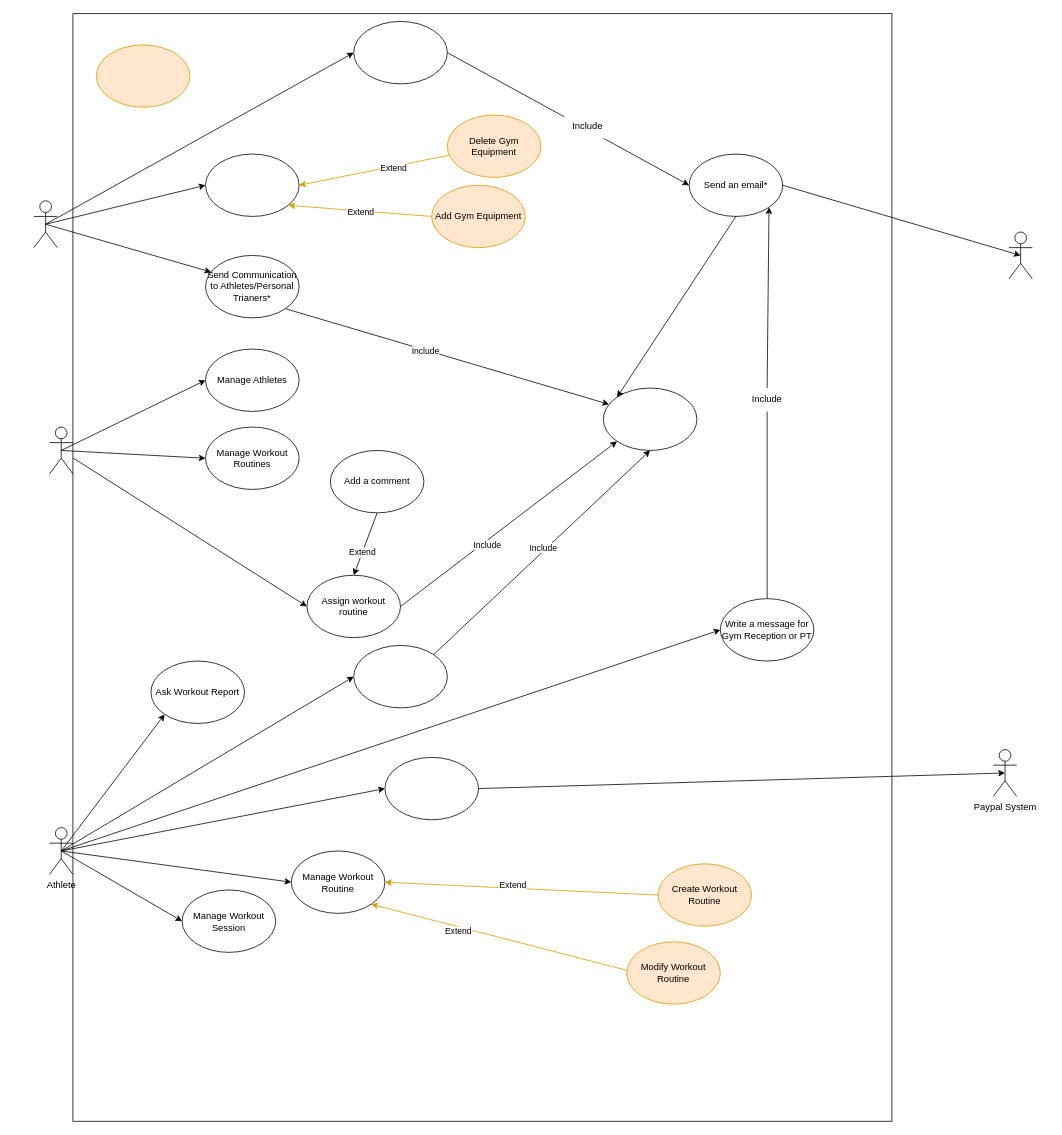
Some shapes in this 1062 by 1135 pixel diagram are drawn without their labels. Here are the shapes that lost their labels. From the top down, the box of each, then its label:
(353, 21, 447, 84): Delete/Register Athletes or Personal Trainers
(96, 44, 190, 107): Manage Athletes or Personal Trainers ????
(205, 153, 299, 216): Manage Gym Equipment
(33, 200, 57, 248): Gym Reception
(1008, 231, 1032, 279): Email System
(603, 387, 697, 450): Send Notification
(49, 426, 73, 474): Personal Trainer
(353, 645, 447, 708): Ask Workout Routine
(384, 757, 479, 820): Manage membership
